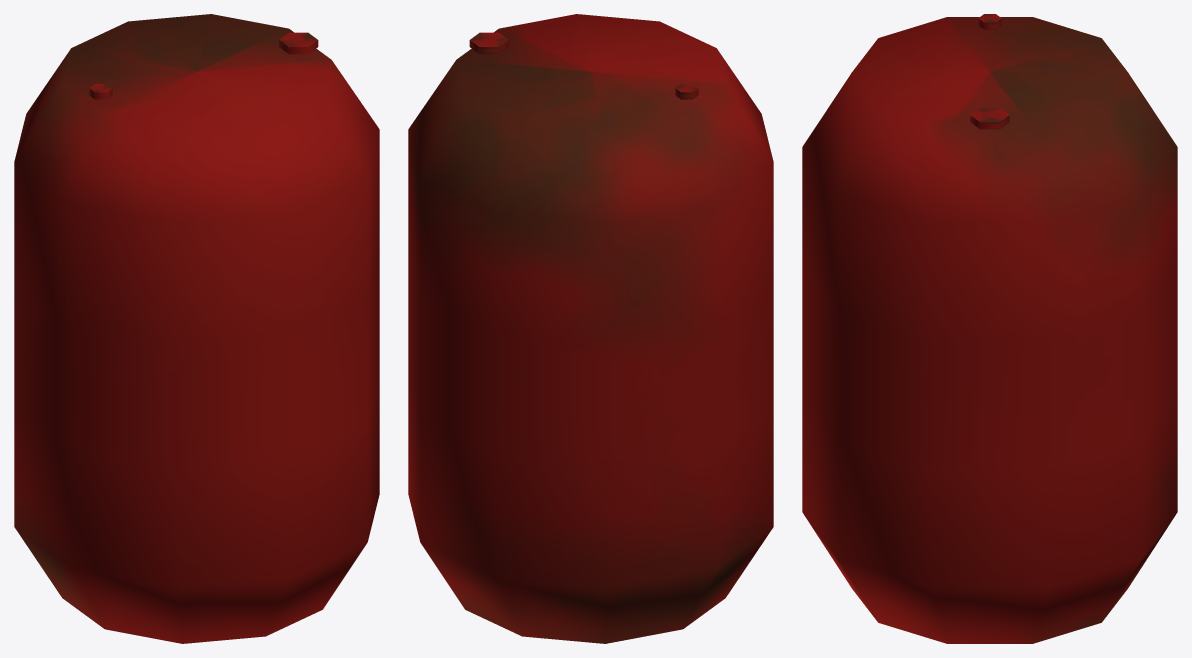
Rendered from barrel_L0.glb.
3 renders of one model, left to right at view 1: azimuth 30°, elevation 25°; view 2: azimuth 150°, elevation 25°; view 3: azimuth 270°, elevation 25°, orthographic.
Visible parts, largest first — view 1: drum, bung; view 2: drum, bung; view 3: drum, bung.
Part boxes in pixels (x1,y1,x2,y2): drum: (14,14,379,643); bung: (279,32,318,54); drum: (408,14,773,643); bung: (469,32,508,54); drum: (802,17,1177,643); bung: (970,108,1009,129).
Bounding box in the file's own units: 0.545 × 0.882 × 0.573.
1 material, 1 textured.
